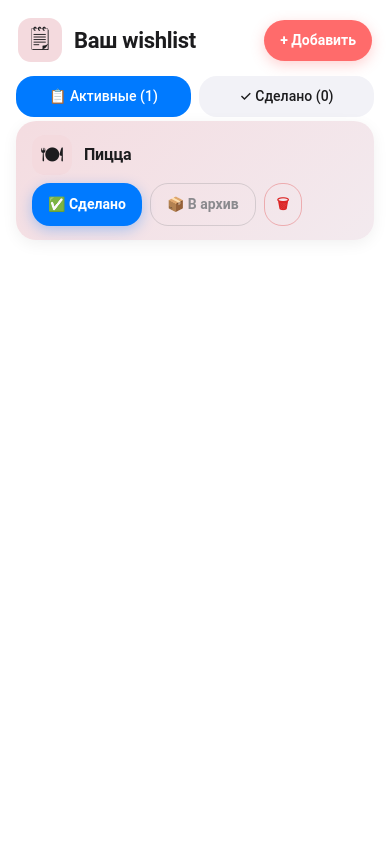
Test: Wishlist — archive action (Bundle A, Task 3) › tapping the archive action on an open item opens a confirm modal; cancel keeps the row
// Click the per-item archive action (icon button labelled "В архив").
Click the button labelled "📦 В архив" at (203, 204), box [150,183,256,226]
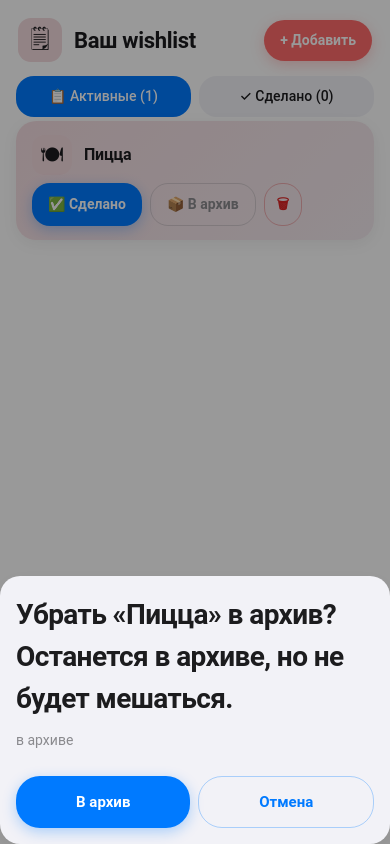
Now the heading "Убрать «Пицца»" is shown, box [16,592,374,724]
// Cancel closes the modal without invoking the endpoint.
Click the button "Отмена" at (286, 802), box [198,776,374,828]
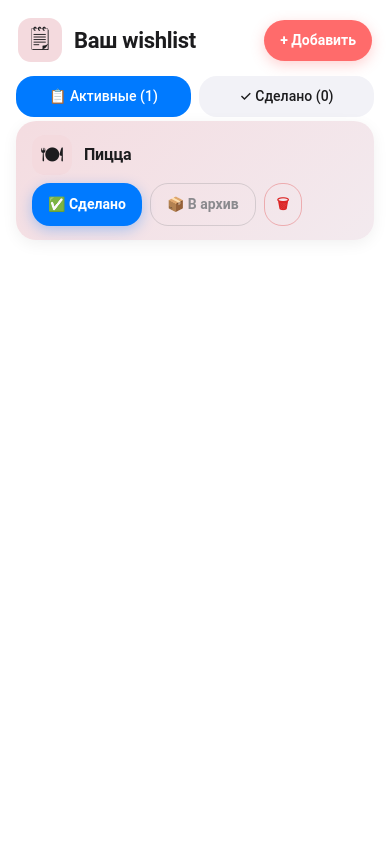
Expected: the text "Пицца" is shown, [84,145,132,164]
Now the heading "Убрать «Пицца»" is gone
